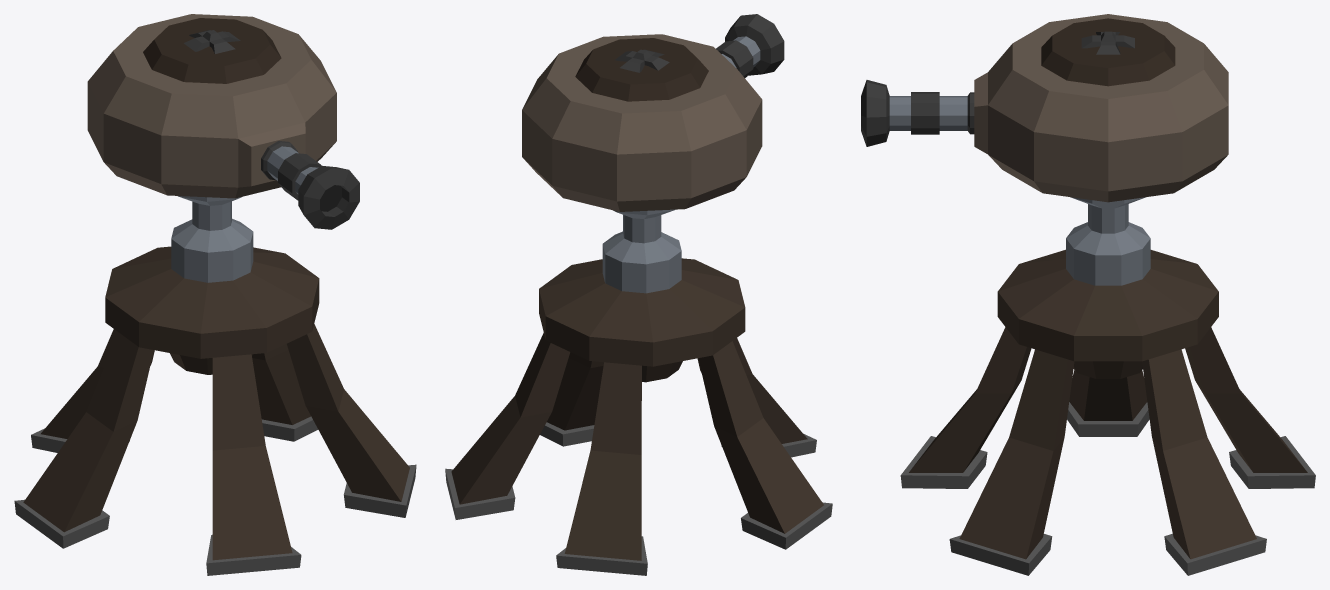
Rendered from Turret 1.fbx.
3 views of the same model, side by side, from view 1: azimuth 30°, elevation 25°; view 2: azimuth 150°, elevation 25°; view 3: azimuth 270°, elevation 25° (orthographic). The views are drawn at different scales.
Parts seen in each view (by area): view 1: Turret1, TurretHead1; view 2: Turret1, TurretHead1; view 3: Turret1, TurretHead1.
Boxes of the visible parts, x1,y1,x2,y2 form: Turret1: [14, 196, 416, 575]; TurretHead1: [87, 14, 359, 229]; Turret1: [445, 209, 832, 575]; TurretHead1: [522, 14, 784, 211]; Turret1: [900, 197, 1315, 575]; TurretHead1: [861, 14, 1228, 202].
Bounding box in the file's own units: 63.04 × 81.41 × 72.61.
